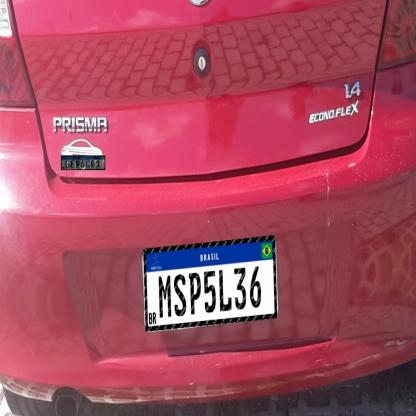PlacaM: (144, 236, 277, 331), (61, 155, 105, 170)
